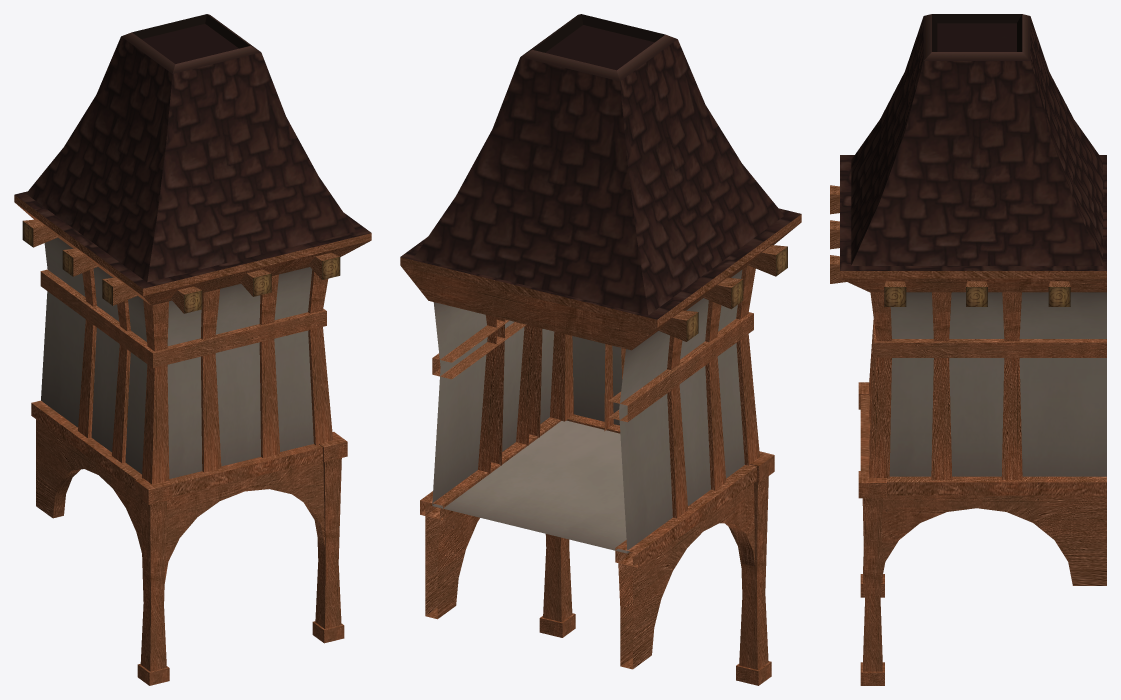
Rendered from fanasty_mod_extention_piece_F.fbx.
The picture shows the model from 3 angles, left to right: view 1: azimuth 30°, elevation 25°; view 2: azimuth 150°, elevation 25°; view 3: azimuth 270°, elevation 25°; orthographic projection. The views are drawn at different scales.
Parts seen in each view (by area): view 1: extention_piece_F; view 2: extention_piece_F; view 3: extention_piece_F.
Part boxes in pixels (x1=…): extention_piece_F: x1=14, y1=14, x2=371, y2=685; extention_piece_F: x1=400, y1=14, x2=801, y2=685; extention_piece_F: x1=830, y1=14, x2=1106, y2=685.
Bounding box in the file's own units: 4.58 × 10.33 × 4.29.
